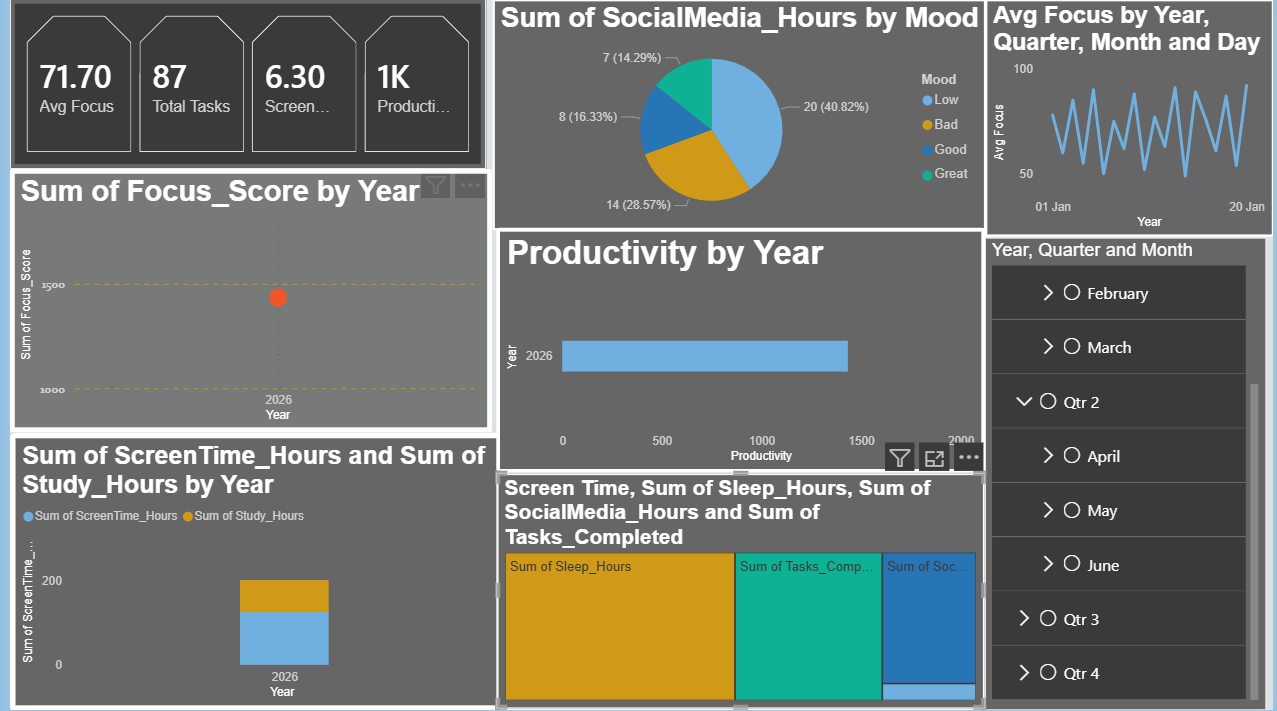

This screenshot's page, from the dashboard's own definition file:
{"tool":"powerbi","page":{"name":"Page 1","canvas":[1280,720],"ordinal":0},"visuals":[{"type":"cardVisual","fields":{"Data":["productivity_dashboard_dataset.Avg Focus","productivity_dashboard_dataset.Total Tasks","productivity_dashboard_dataset.Screen Time","productivity_dashboard_dataset.Productivity"]},"box":[0,0,482.4,172.5],"z":0},{"type":"lineChart","fields":{"Category":["productivity_dashboard_dataset.Date.Variation.Date Hierarchy.Year","productivity_dashboard_dataset.Date.Variation.Date Hierarchy.Quarter","productivity_dashboard_dataset.Date.Variation.Date Hierarchy.Month","productivity_dashboard_dataset.Date.Variation.Date Hierarchy.Day"],"Y":["Sum(productivity_dashboard_dataset.Focus_Score)"]},"box":[0,172.5,488,266.4],"z":1000},{"type":"columnChart","fields":{"Category":["productivity_dashboard_dataset.Date.Variation.Date Hierarchy.Year","productivity_dashboard_dataset.Date.Variation.Date Hierarchy.Quarter","productivity_dashboard_dataset.Date.Variation.Date Hierarchy.Month","productivity_dashboard_dataset.Date.Variation.Date Hierarchy.Day"],"Y":["Sum(productivity_dashboard_dataset.ScreenTime_Hours)","Sum(productivity_dashboard_dataset.Study_Hours)"]},"box":[0,438.9,502,281.9],"z":2000},{"type":"pieChart","fields":{"Category":["productivity_dashboard_dataset.Mood"],"Y":["Sum(productivity_dashboard_dataset.SocialMedia_Hours)"]},"box":[488,0,500,234],"z":3000},{"type":"barChart","fields":{"Category":["productivity_dashboard_dataset.Date.Variation.Date Hierarchy.Year","productivity_dashboard_dataset.Date.Variation.Date Hierarchy.Quarter","productivity_dashboard_dataset.Date.Variation.Date Hierarchy.Month","productivity_dashboard_dataset.Date.Variation.Date Hierarchy.Day"],"Y":["productivity_dashboard_dataset.Productivity"]},"box":[492.2,231.4,495,248.2],"z":4000},{"type":"listSlicer","fields":{"Values":["productivity_dashboard_dataset.Date.Variation.Date Hierarchy.Year","productivity_dashboard_dataset.Date.Variation.Date Hierarchy.Quarter","productivity_dashboard_dataset.Date.Variation.Date Hierarchy.Month","productivity_dashboard_dataset.Date.Variation.Date Hierarchy.Day","productivity_dashboard_dataset.Mood"]},"box":[987.2,241.2,284.7,478.2],"z":5000},{"type":"treemap","fields":{"Values":["productivity_dashboard_dataset.Screen Time","Sum(productivity_dashboard_dataset.Sleep_Hours)","Sum(productivity_dashboard_dataset.SocialMedia_Hours)","Sum(productivity_dashboard_dataset.Tasks_Completed)"]},"box":[492.2,479.6,495,239.8],"z":6000},{"type":"lineChart","fields":{"Y":["productivity_dashboard_dataset.Avg Focus"],"Category":["productivity_dashboard_dataset.Date.Variation.Date Hierarchy.Year","productivity_dashboard_dataset.Date.Variation.Date Hierarchy.Quarter","productivity_dashboard_dataset.Date.Variation.Date Hierarchy.Month","productivity_dashboard_dataset.Date.Variation.Date Hierarchy.Day"]},"box":[987.2,0,293.1,241.2],"z":7000}]}

Visuals, with their boxes in screenshot pixels (x1, y1, x2, y2), scaled from the page's 1280x720 canvas onto the 1277x711 screenshot:
cardVisual - productivity_dashboard_dataset.Avg Focus x productivity_dashboard_dataset.Total Tasks: (x1=0, y1=0, x2=481, y2=170)
lineChart - productivity_dashboard_dataset.Date.Variation.Date Hierarchy.Year x productivity_dashboard_dataset.Date.Variation.Date Hierarchy.Quarter: (x1=0, y1=170, x2=487, y2=433)
columnChart - productivity_dashboard_dataset.Date.Variation.Date Hierarchy.Year x productivity_dashboard_dataset.Date.Variation.Date Hierarchy.Quarter: (x1=0, y1=433, x2=501, y2=710)
pieChart - productivity_dashboard_dataset.Mood x Sum(productivity_dashboard_dataset.SocialMedia_Hours): (x1=487, y1=0, x2=986, y2=231)
barChart - productivity_dashboard_dataset.Date.Variation.Date Hierarchy.Year x productivity_dashboard_dataset.Date.Variation.Date Hierarchy.Quarter: (x1=491, y1=229, x2=985, y2=474)
listSlicer - productivity_dashboard_dataset.Date.Variation.Date Hierarchy.Year x productivity_dashboard_dataset.Date.Variation.Date Hierarchy.Quarter: (x1=985, y1=238, x2=1269, y2=710)
treemap - productivity_dashboard_dataset.Screen Time x Sum(productivity_dashboard_dataset.Sleep_Hours): (x1=491, y1=474, x2=985, y2=710)
lineChart - productivity_dashboard_dataset.Avg Focus x productivity_dashboard_dataset.Date.Variation.Date Hierarchy.Year: (x1=985, y1=0, x2=1276, y2=238)
